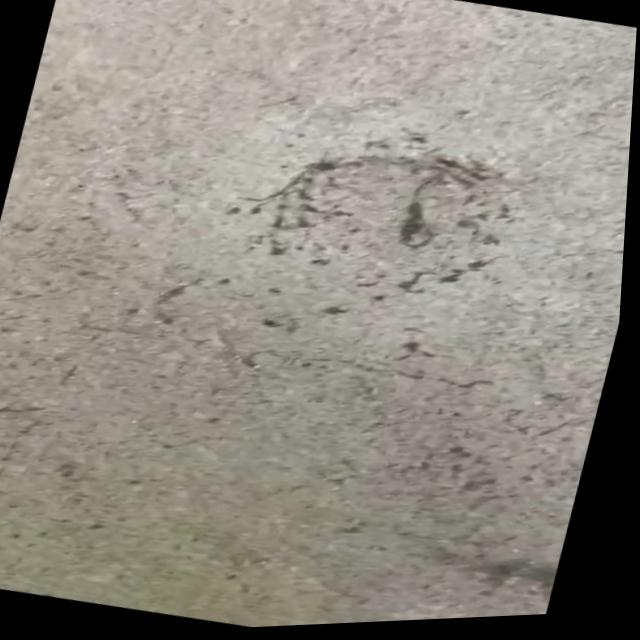Crack: (275, 136, 506, 302)
